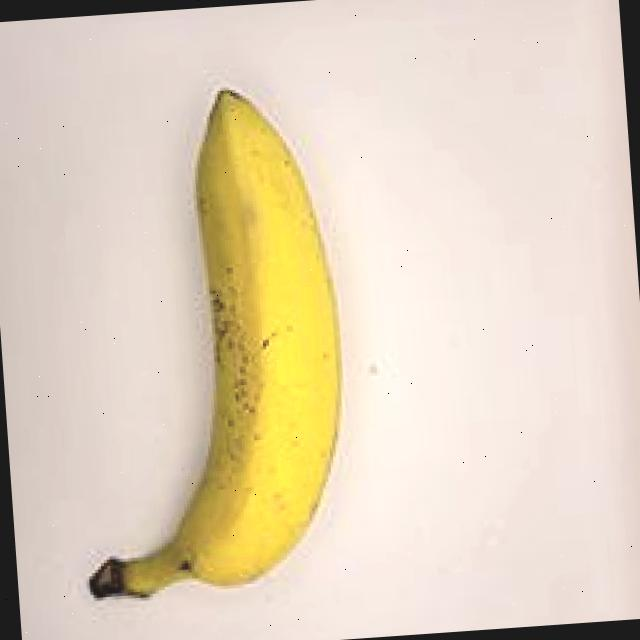Ripe: (13, 47, 389, 640)
